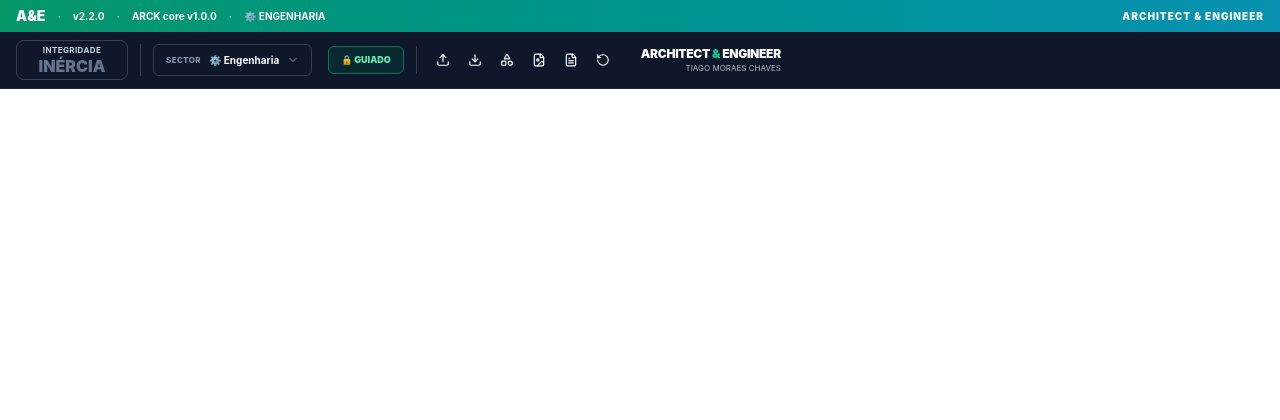
Cabecalho › sectores (DEC-018): só o activo à vista; o botão abre os 12, escolher fecha e avisa o App
Click the button titled "Mudar de sector" at x=233, y=60, box [153, 44, 312, 76]
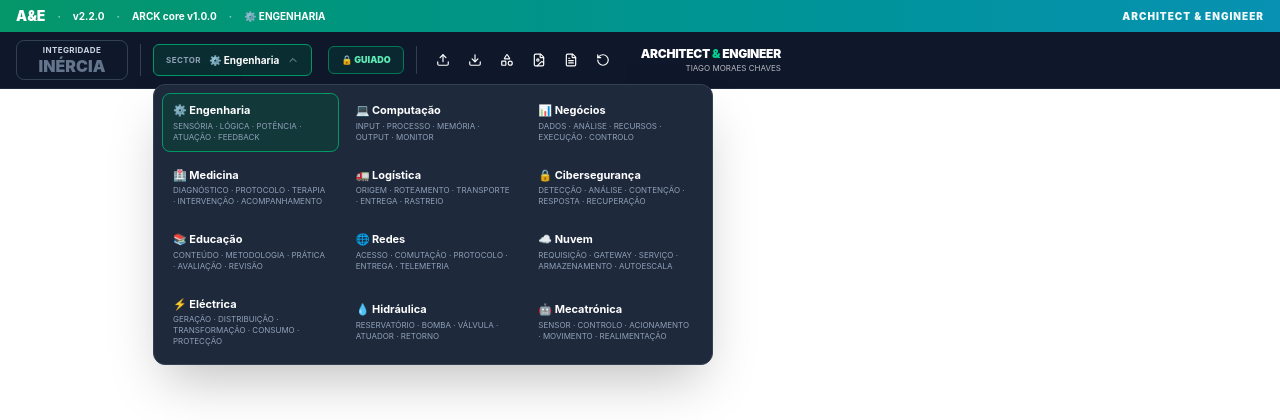
Result: the number of options is 12
Result: the option that starts with "Engenharia" is shown at [162, 93, 339, 152]
Result: the option "Nuvem" shows "GATEWAY"
Click the option "Nuvem" at x=616, y=251, box [527, 222, 704, 280]
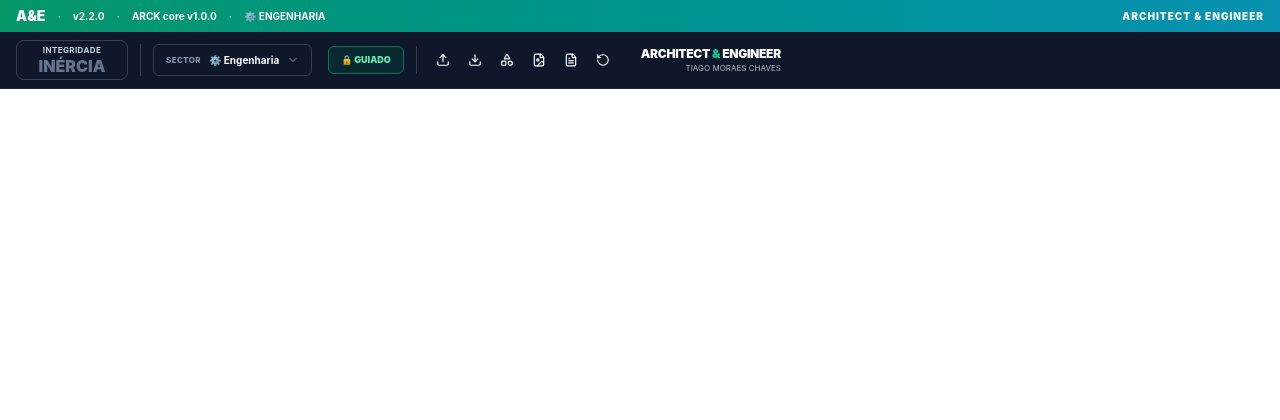
Result: the list is gone
